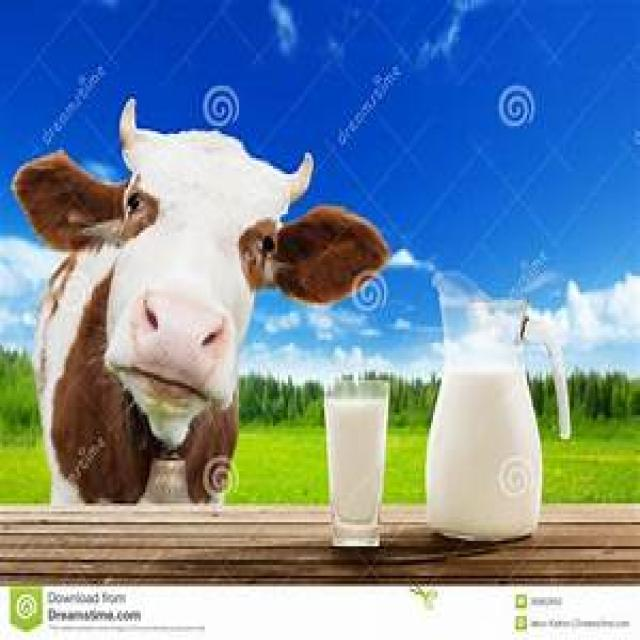cow: (11, 96, 393, 509)
